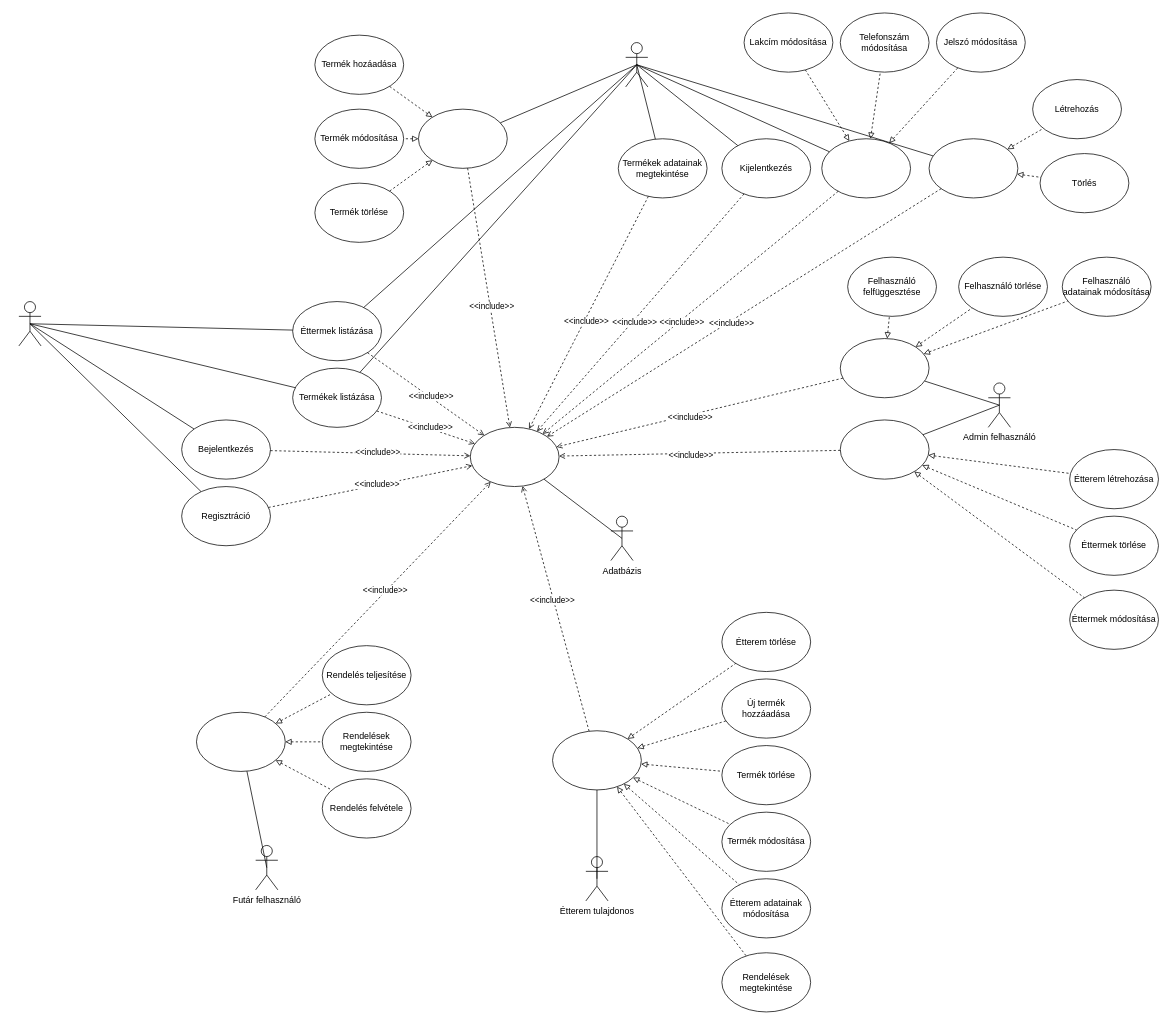
Image size: 1171x1025. Some labels were removed from this diagram. Each missing label, with the centre of its shape:
"Adatkezelés" belongs at (x=514, y=457).
"Bejelentkezett felhasználó" belongs at (x=636, y=64).
"Felhasználók kezelése" belongs at (x=884, y=368).
"Fiók kezelése" belongs at (x=866, y=168).
"Kosár kezelése" belongs at (x=462, y=138).
"Látogató" belongs at (x=29, y=323).
"Rendelés" belongs at (x=973, y=168).
"Rendelések kezelése" belongs at (x=240, y=741).
"Étterem kezelése" belongs at (x=596, y=760).
"Étteremek kezelése" belongs at (x=884, y=449).
